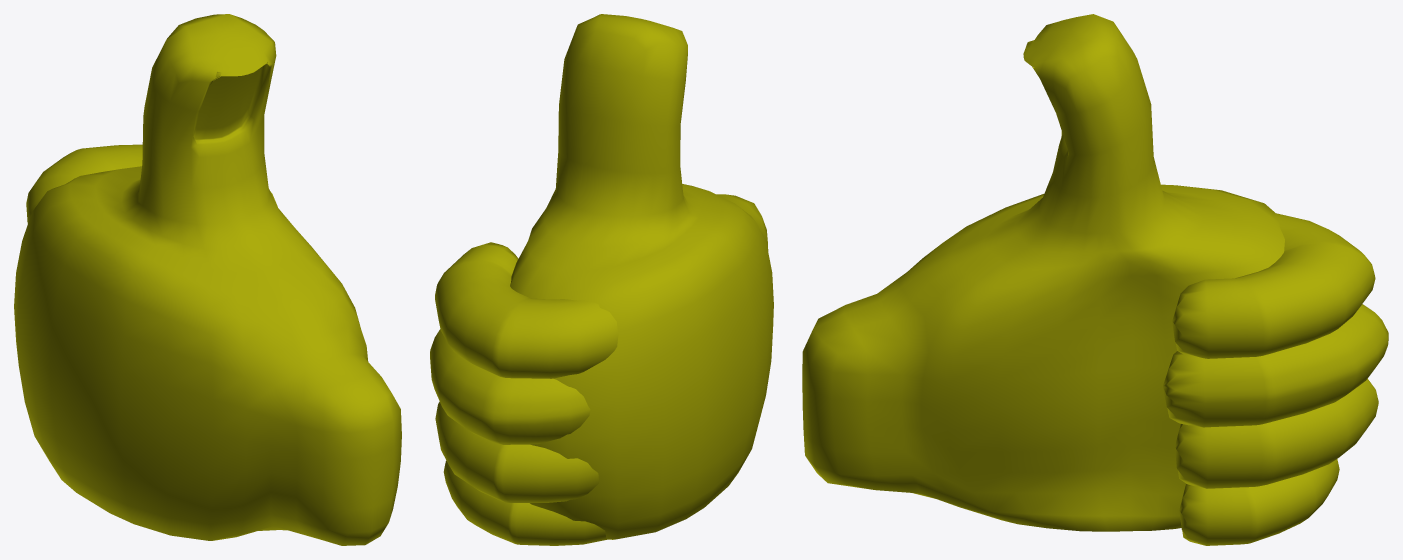
Rendered from thumbsup_reaction.glb.
3 views of the same model, side by side, from view 1: azimuth 30°, elevation 25°; view 2: azimuth 150°, elevation 25°; view 3: azimuth 270°, elevation 25° (orthographic). The views are drawn at different scales.
Parts seen in each view (by area): view 1: Thumbs_Up_Smooth; view 2: Thumbs_Up_Smooth; view 3: Thumbs_Up_Smooth.
Part boxes in pixels (<box>): Thumbs_Up_Smooth: <box>14,14,401,545</box>; Thumbs_Up_Smooth: <box>430,14,773,545</box>; Thumbs_Up_Smooth: <box>802,14,1388,545</box>.
Size of the model in its own units: 1.81 by 3.25 by 3.58.
